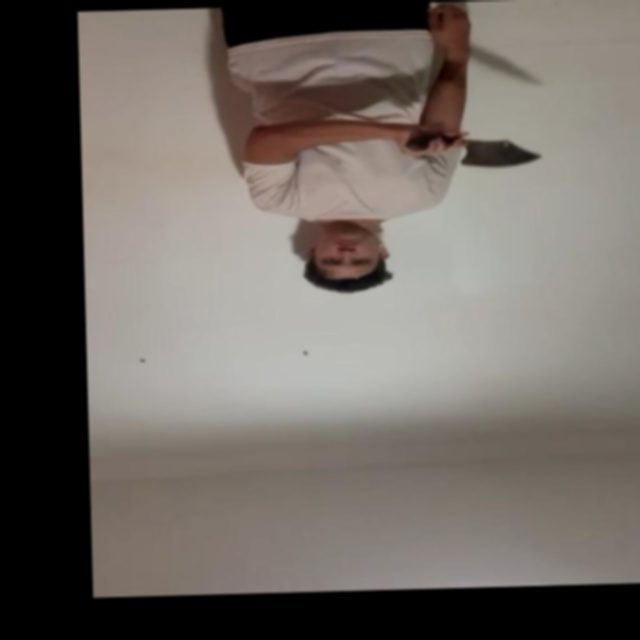Sharp-Object: (459, 137, 543, 169)
